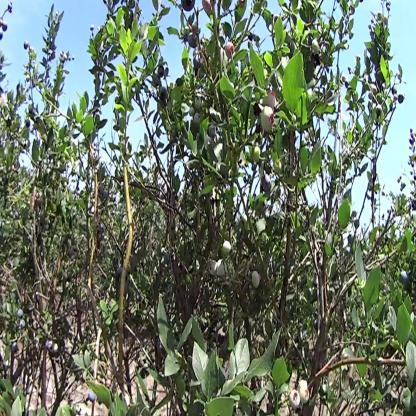intermediate: (289, 392, 302, 411), (225, 42, 236, 64)
mature: (398, 266, 410, 288), (261, 175, 274, 194), (180, 2, 197, 14)
young: (259, 105, 277, 139), (209, 258, 230, 283), (299, 380, 311, 408), (220, 237, 234, 260), (250, 270, 263, 292), (253, 146, 265, 168)
